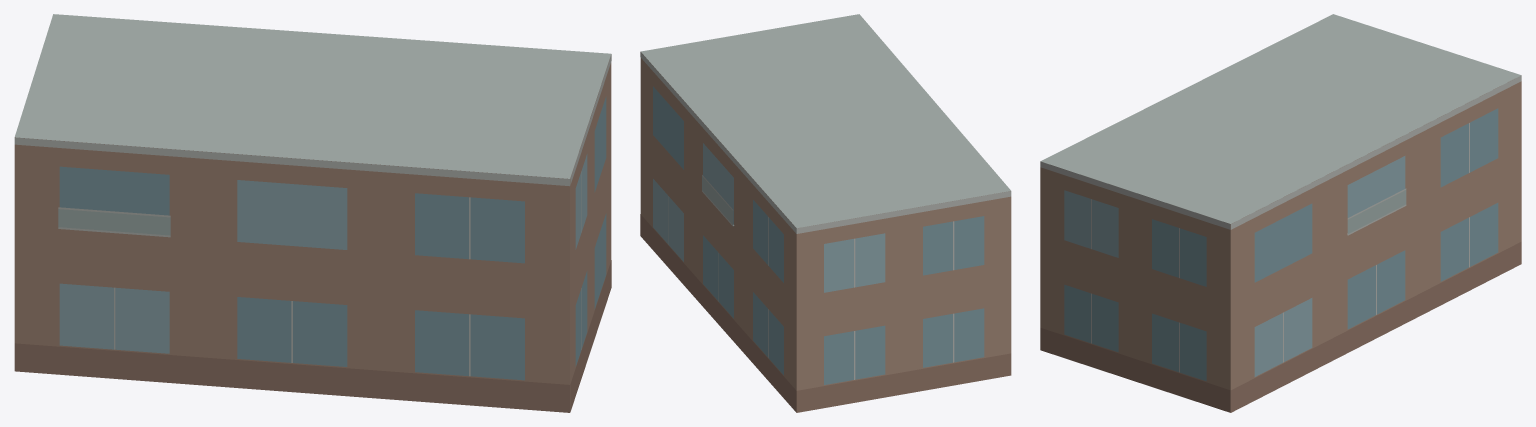
Rendered from survey-upis-32764951.glb.
3 renders of one model, left to right at view 1: azimuth 30°, elevation 25°; view 2: azimuth 150°, elevation 25°; view 3: azimuth 270°, elevation 25°, orthographic. The views are drawn at different scales.
Visible parts, largest first — view 1: survey-upis-32764951.tmp; view 2: survey-upis-32764951.tmp; view 3: survey-upis-32764951.tmp.
Boxes of the visible parts, x1,y1,x2,y2 form: survey-upis-32764951.tmp: (14, 14, 611, 412); survey-upis-32764951.tmp: (640, 14, 1011, 412); survey-upis-32764951.tmp: (1040, 14, 1521, 412).
Size of the model in its own units: 18.74 by 7.85 by 18.15.
